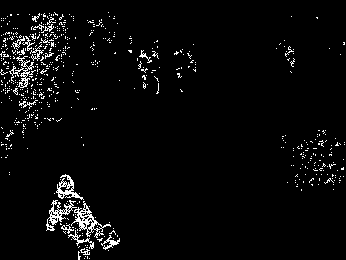person: (43, 169, 121, 260)
